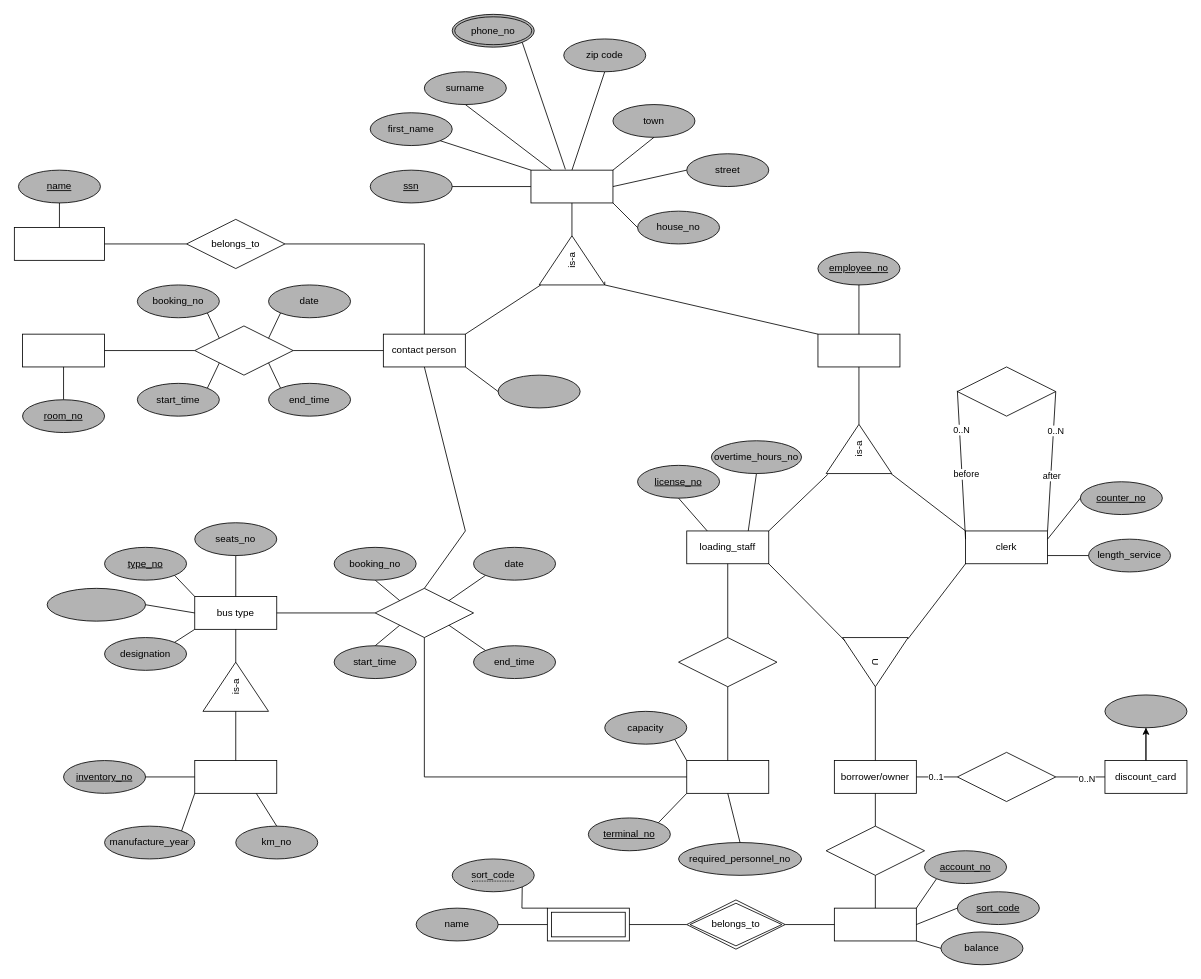
The diagram is 1201 pixels wide and 979 high, and some of its shapes have lost their labels. Each missing label, with the centre of its shape:
bank: pixel 588 924
book_1: pixel 243 350
book_2: pixel 424 613
borrow: pixel 1006 777
bus_line_company: pixel 59 243
card_no: pixel 1145 711
customer_no: pixel 538 391
employee: pixel 858 350
equipment_quality: pixel 96 604
individual_bus: pixel 235 776
own: pixel 875 850
person: pixel 571 186
rest_area: pixel 63 350
salary_account: pixel 875 924
shift: pixel 1006 391
terminal: pixel 727 776
works_at: pixel 727 662
